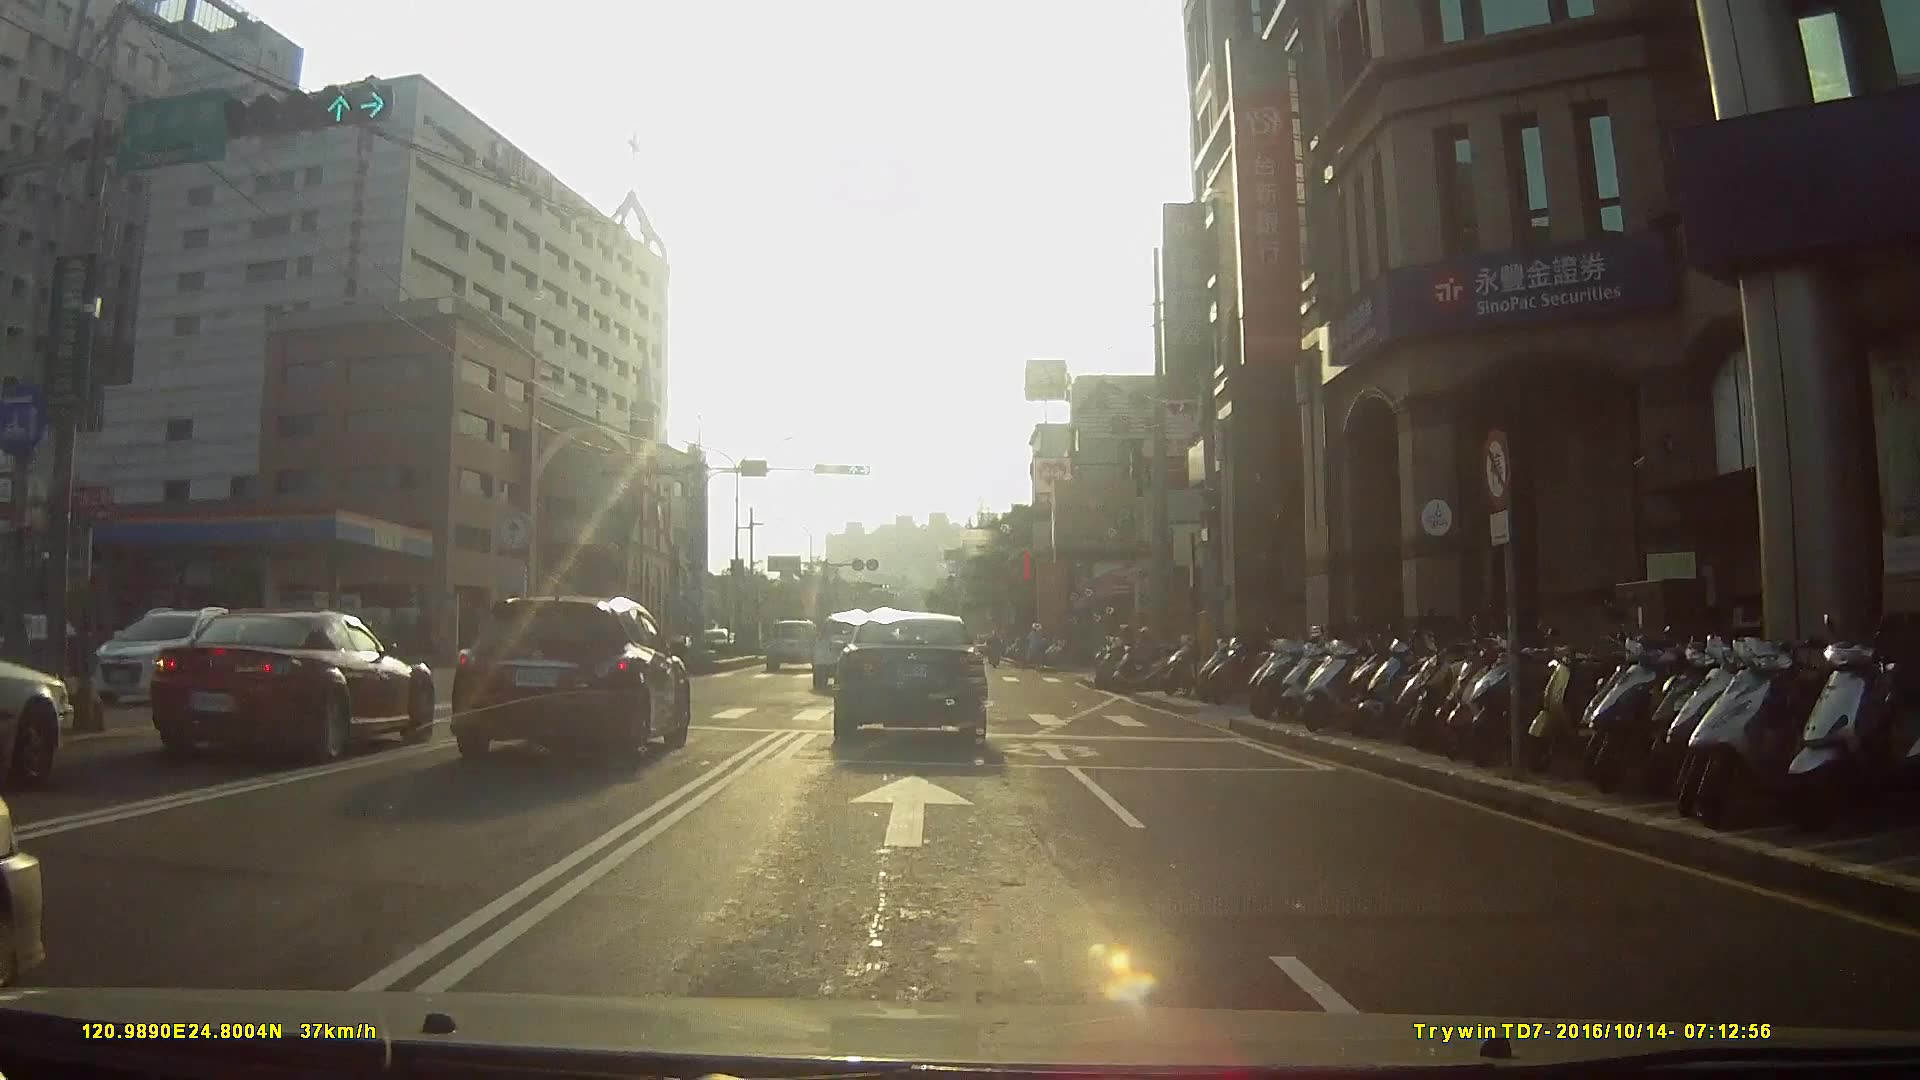rider: (1106, 620, 1185, 689)
vehicle: (124, 604, 434, 774), (444, 590, 706, 765), (828, 607, 1001, 755), (67, 599, 270, 712), (1, 626, 84, 790), (812, 607, 891, 691), (766, 616, 825, 671)
